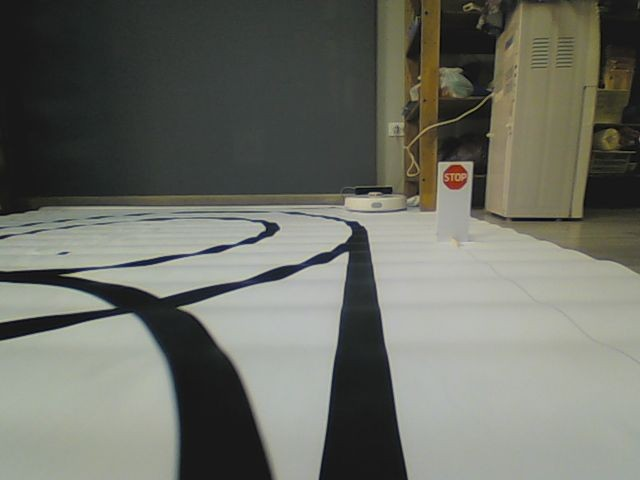Stop: (442, 162, 469, 190)
